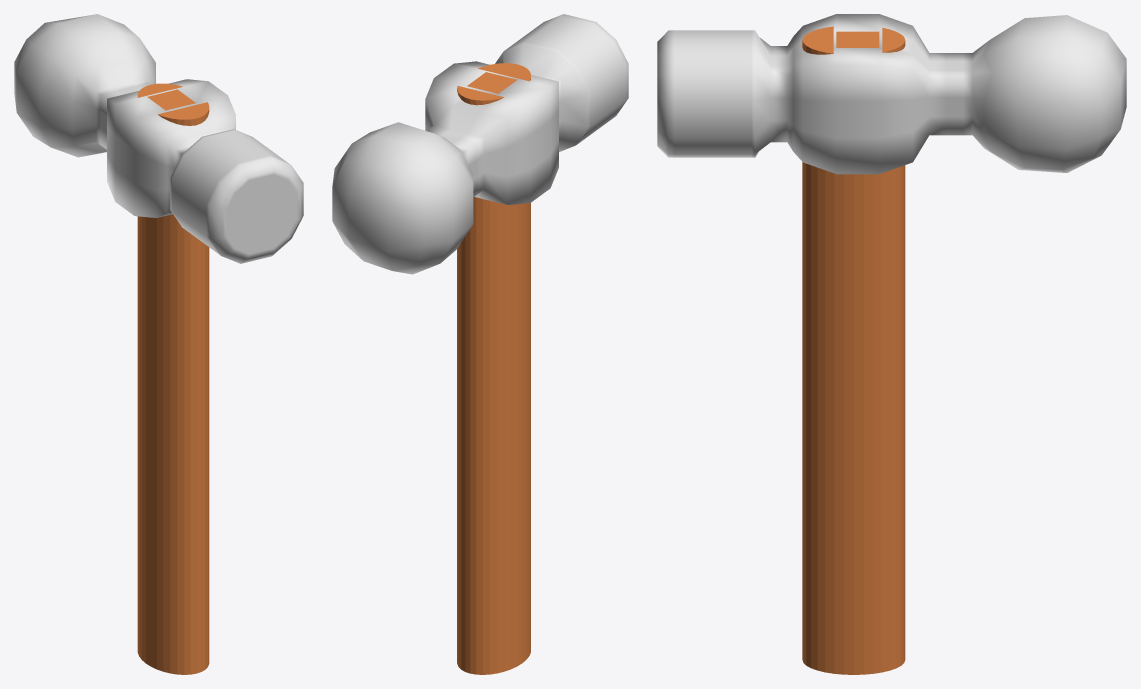
Rendered from Hammer.blend.gltf.
The picture shows the model from 3 angles, left to right: view 1: azimuth 30°, elevation 25°; view 2: azimuth 150°, elevation 25°; view 3: azimuth 270°, elevation 25°; orthographic projection. The views are drawn at different scales.
Visible parts, largest first — view 1: Cube, Cylinder; view 2: Cube, Cylinder; view 3: Cube, Cylinder.
Part boxes in pixels (bbox=[...]): Cube: bbox=[14, 14, 303, 263]; Cylinder: bbox=[137, 83, 209, 674]; Cube: bbox=[332, 14, 628, 274]; Cylinder: bbox=[457, 63, 530, 674]; Cube: bbox=[657, 14, 1126, 174]; Cylinder: bbox=[802, 26, 905, 674].
Size of the model in its own units: 0.4269 by 1.98 by 1.33.
